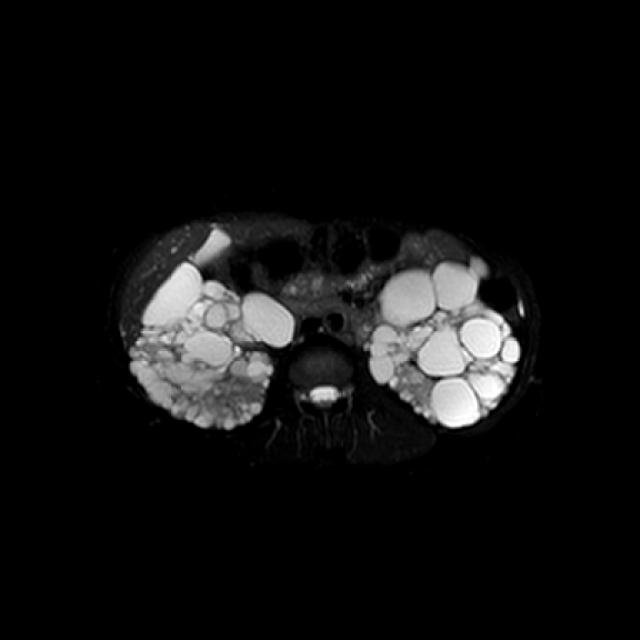sag: (127, 258, 296, 428)
sol: (363, 252, 522, 430)
